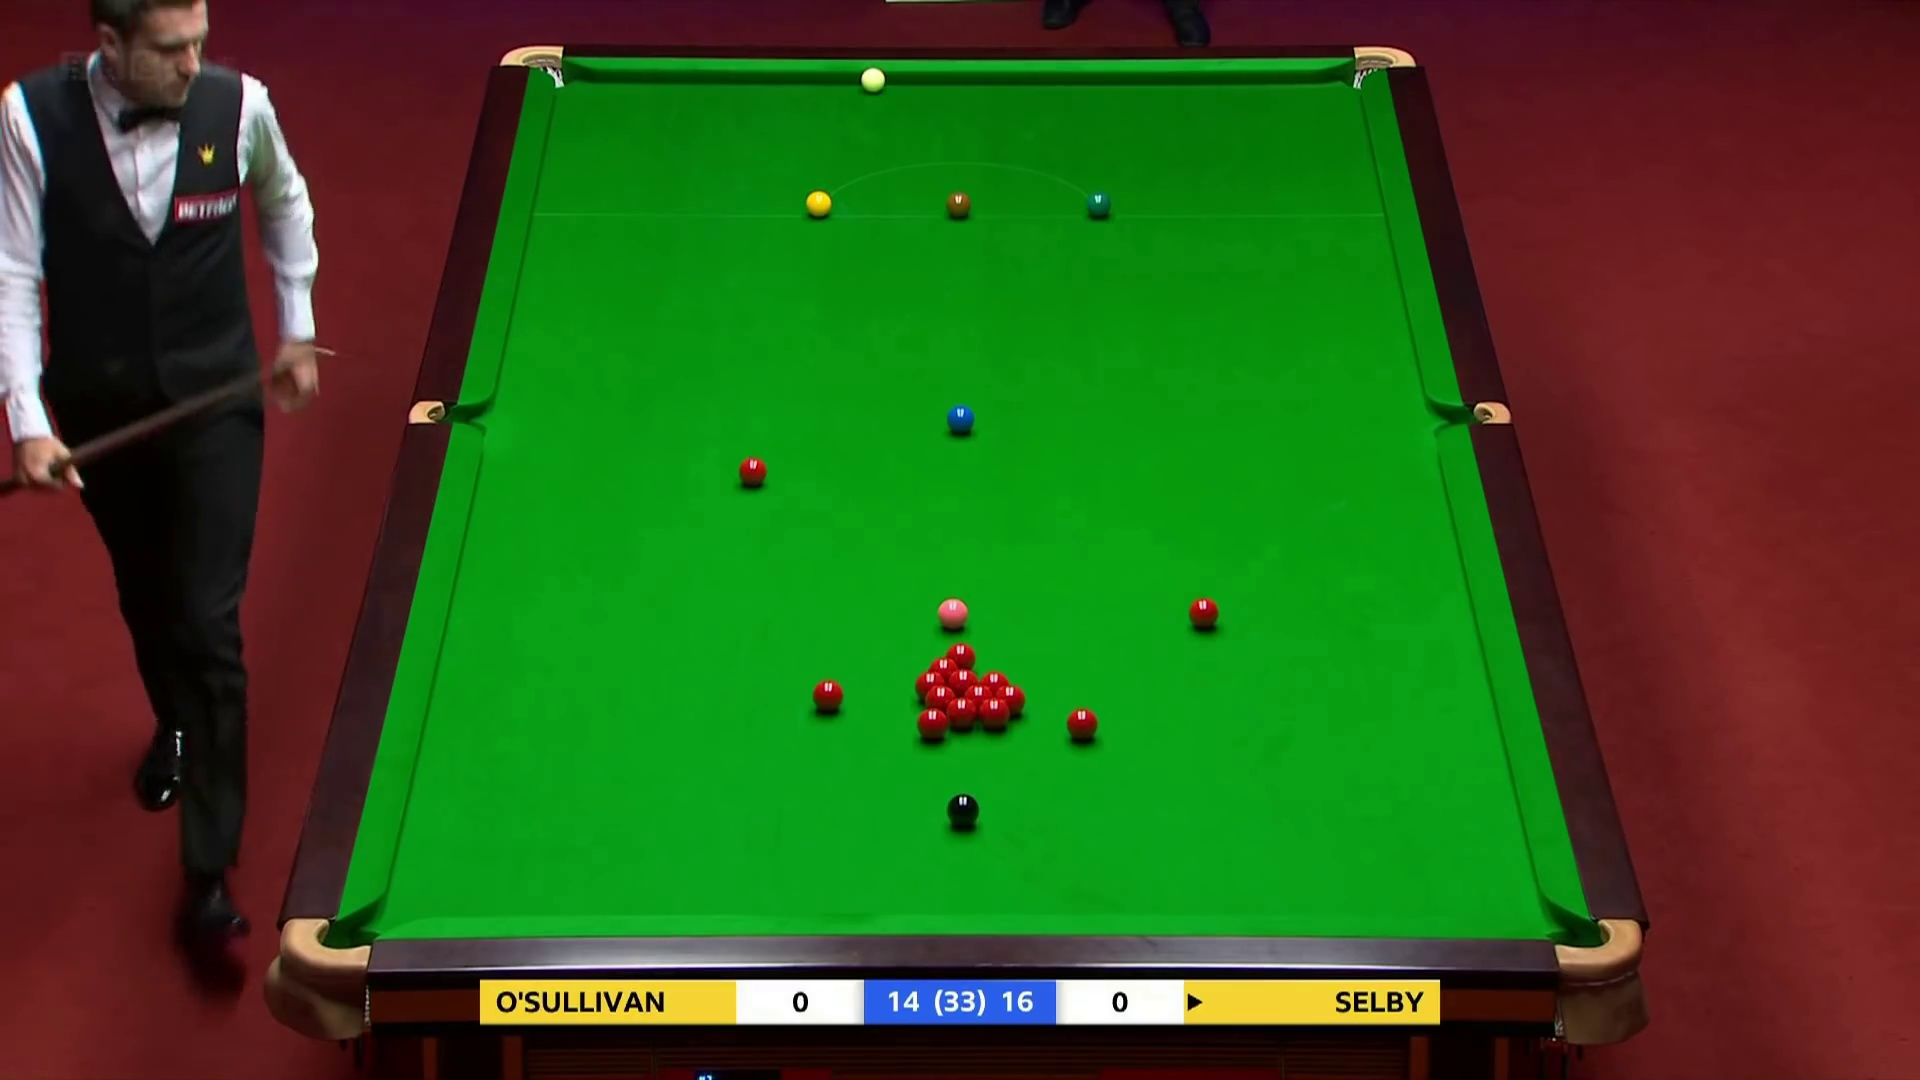black: (945, 791, 982, 836)
blue: (943, 402, 978, 440)
brown: (943, 190, 976, 222)
green: (1084, 187, 1114, 222)
pink: (938, 595, 971, 634)
red: (1185, 593, 1225, 636), (976, 699, 1011, 738), (811, 678, 847, 716), (915, 708, 951, 746), (943, 698, 978, 736), (914, 669, 949, 705), (1064, 705, 1098, 744), (924, 684, 957, 720), (737, 454, 767, 492), (964, 682, 997, 716), (945, 644, 977, 678), (948, 666, 978, 702), (997, 684, 1027, 716), (982, 671, 1010, 698)
white: (856, 63, 891, 98)
yellow: (804, 187, 833, 222)
